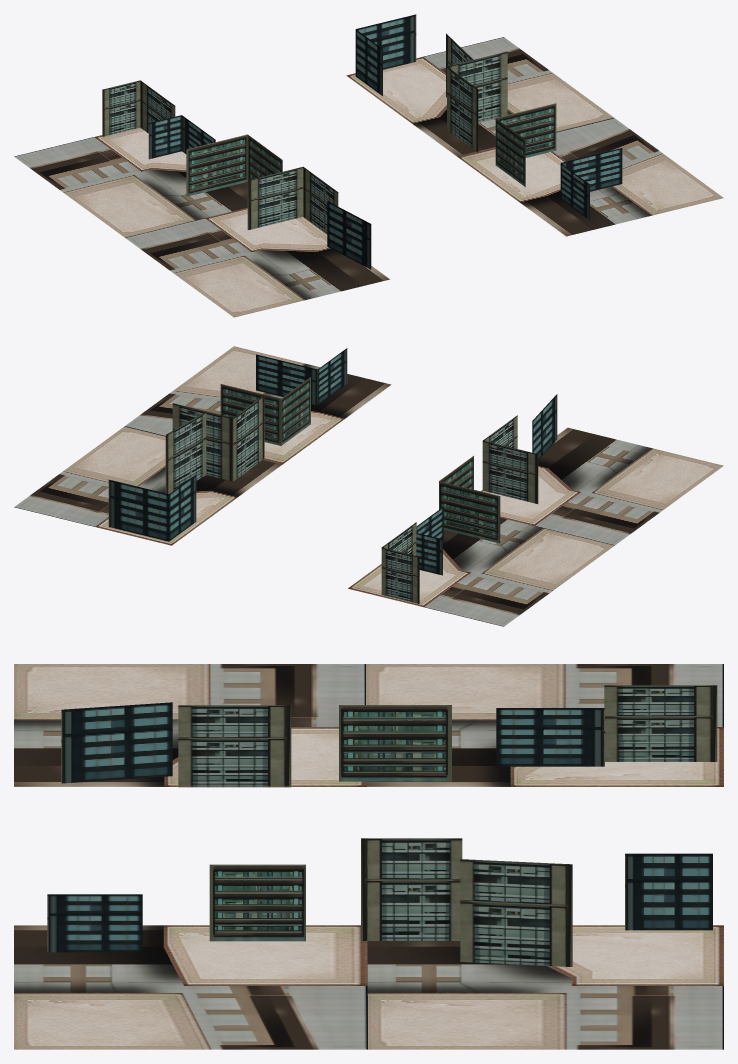
Rendered from ny_city_far.fbx.
3 views of the same model, one above another, from view 1: azimuth 30°, elevation 25°; view 2: azimuth 150°, elevation 25°; view 3: azimuth 270°, elevation 25° (orthographic). The views are drawn at different scales.
Visible parts, largest first — view 1: ny_city_far; view 2: ny_city_far; view 3: ny_city_far.
Part boxes in pixels (x1=…): ny_city_far: x1=14, y1=14, x2=723, y2=317; ny_city_far: x1=14, y1=346, x2=723, y2=626; ny_city_far: x1=14, y1=664, x2=723, y2=1049.
Bounding box in the file's own units: 12856 × 1616 × 10000.
